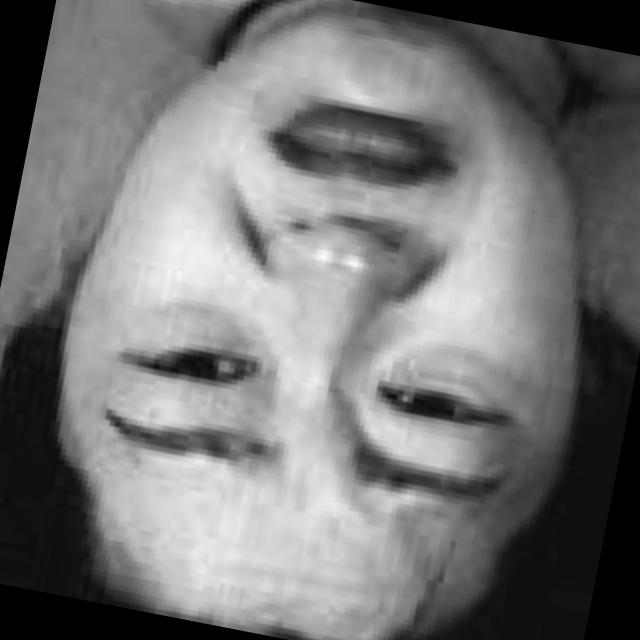disgust: (39, 0, 626, 640)
